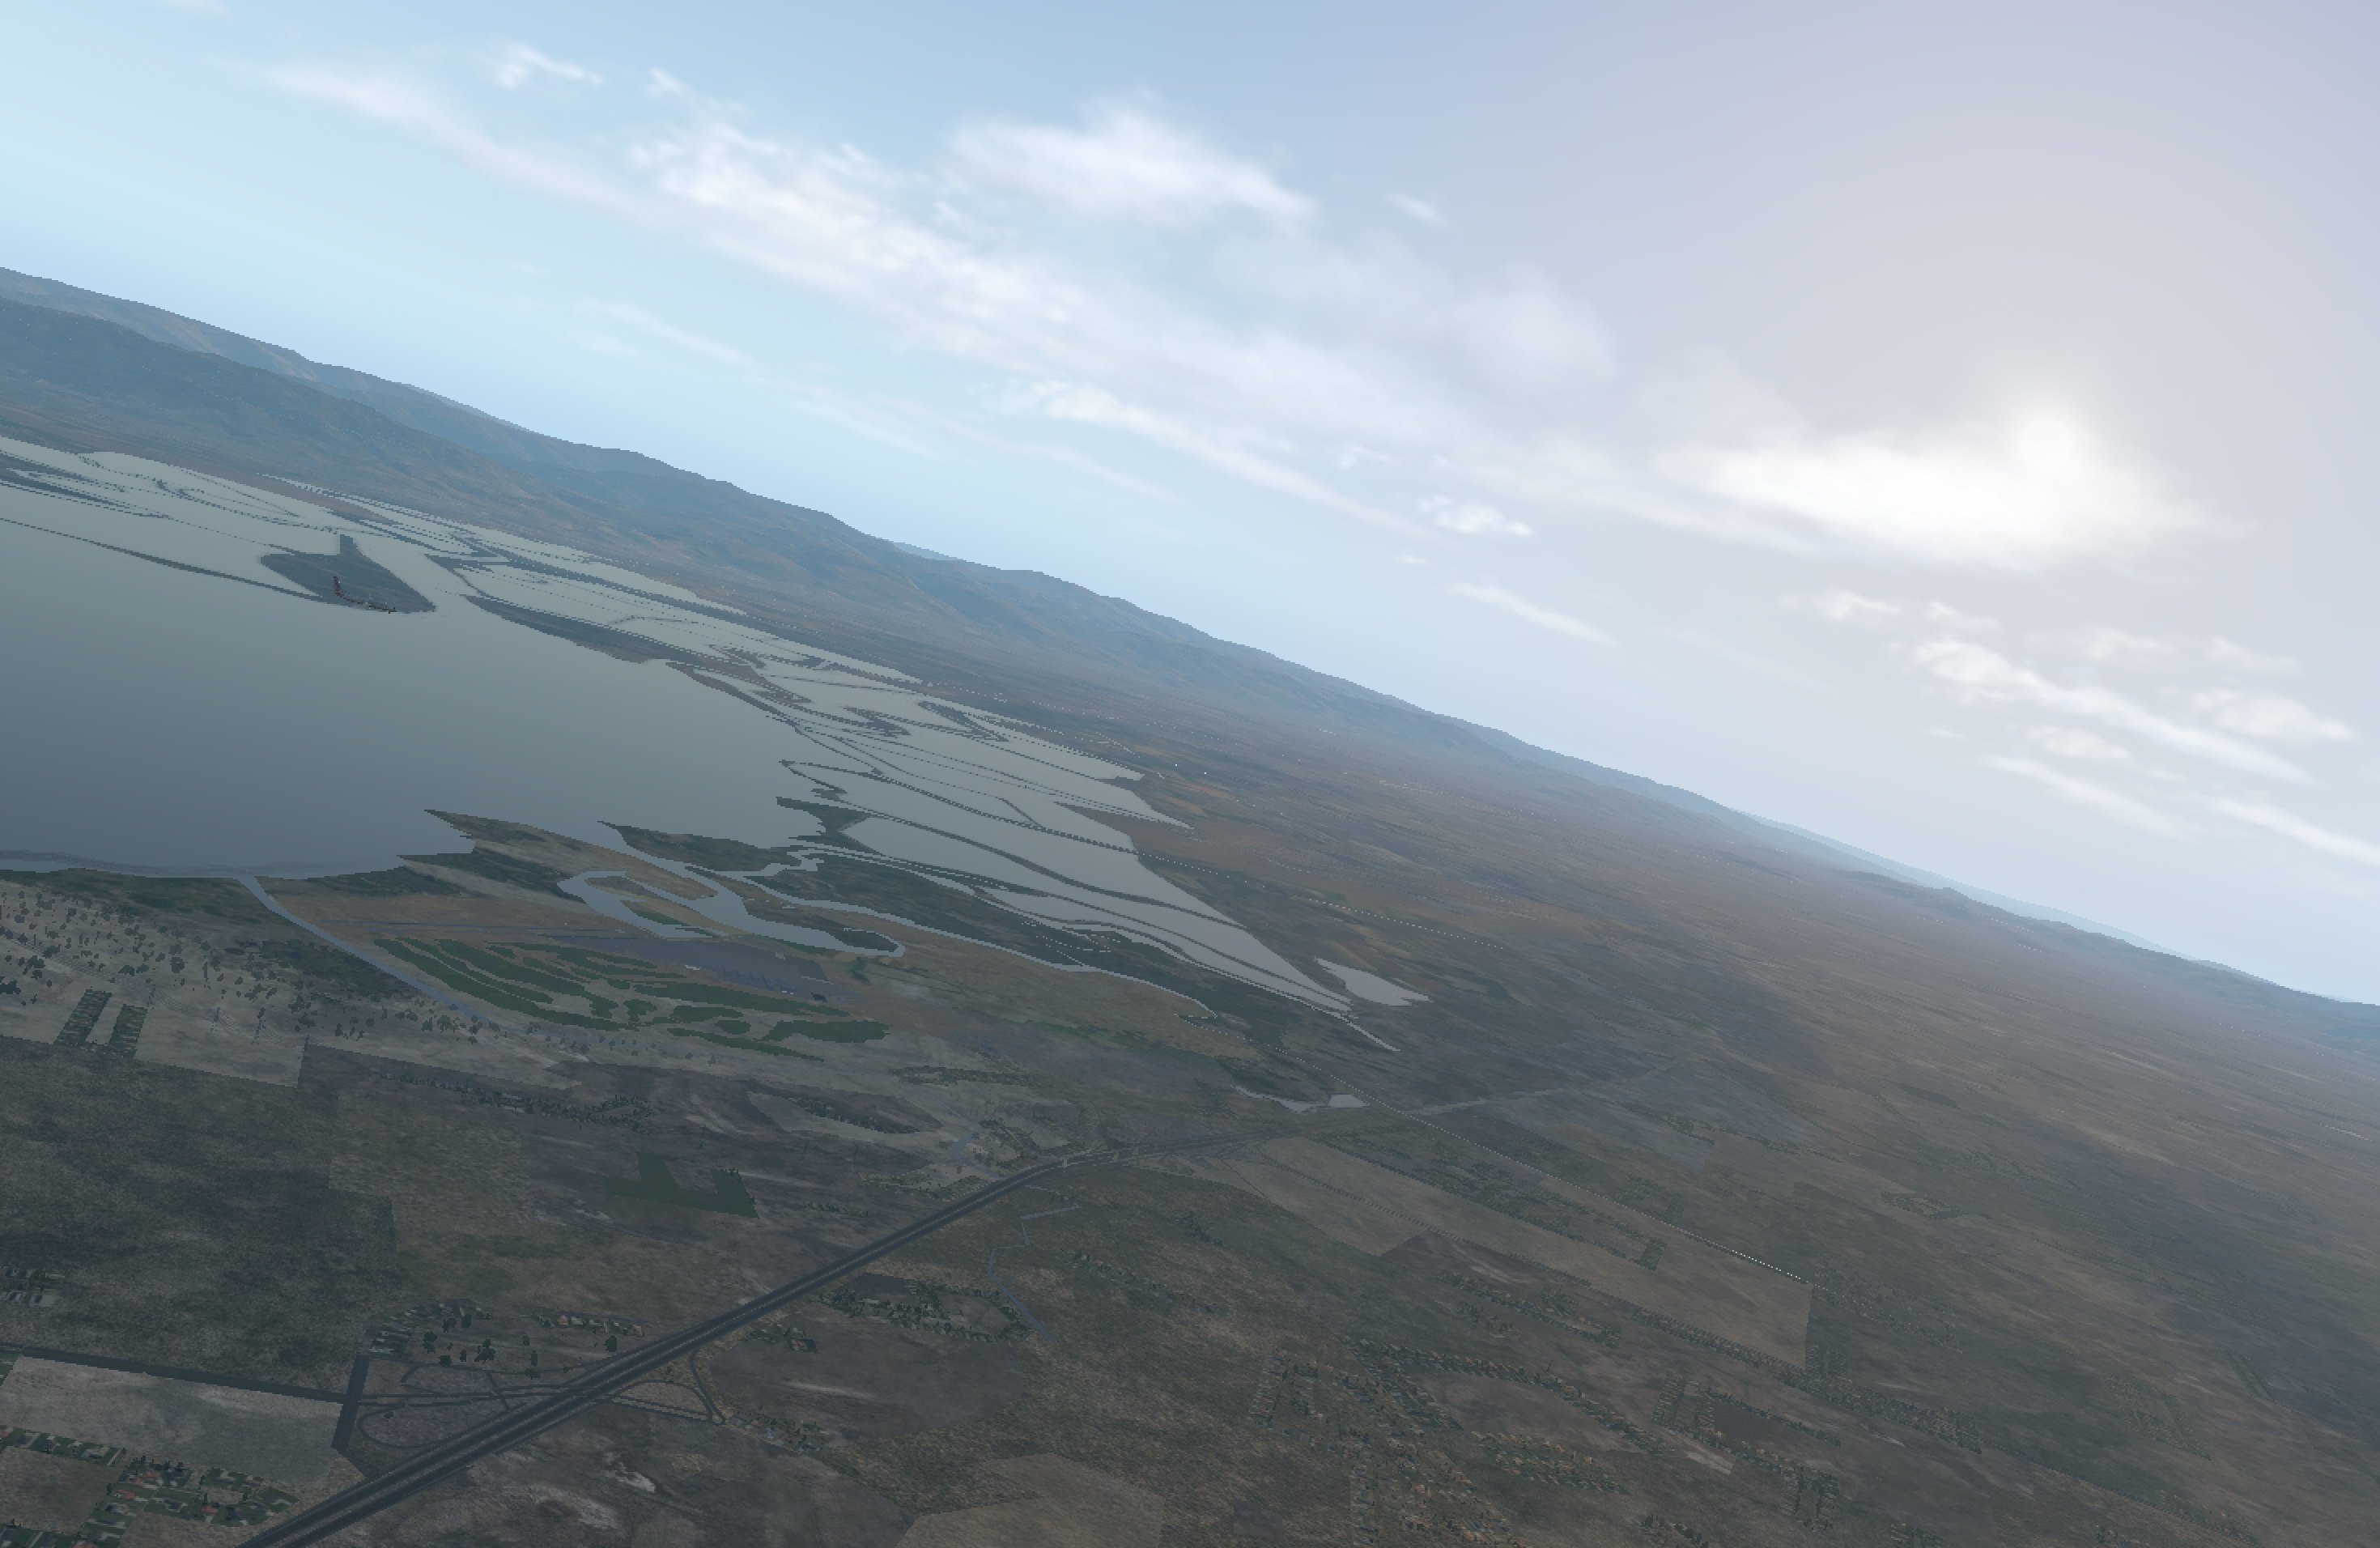aircraft: (333, 590, 399, 616)
